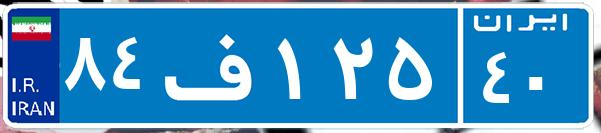0: (525, 38, 570, 115)
1: (273, 28, 330, 110)
2: (330, 28, 385, 110)
4: (475, 38, 525, 113), (110, 28, 158, 105)
5: (385, 28, 445, 110)
8: (57, 26, 110, 107)
ف: (158, 15, 273, 115)
